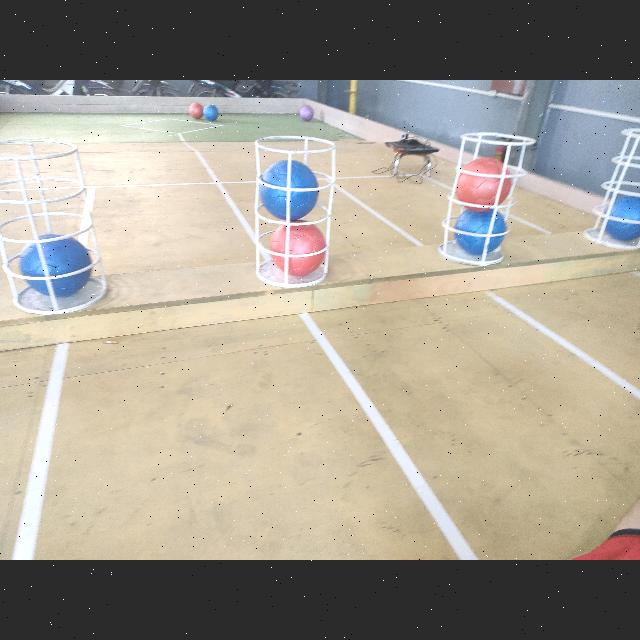B: (20, 234, 90, 298), (259, 160, 321, 218), (456, 207, 506, 255), (602, 195, 640, 241), (203, 105, 219, 122)
R: (272, 220, 328, 276), (455, 156, 511, 210), (190, 102, 202, 118)
